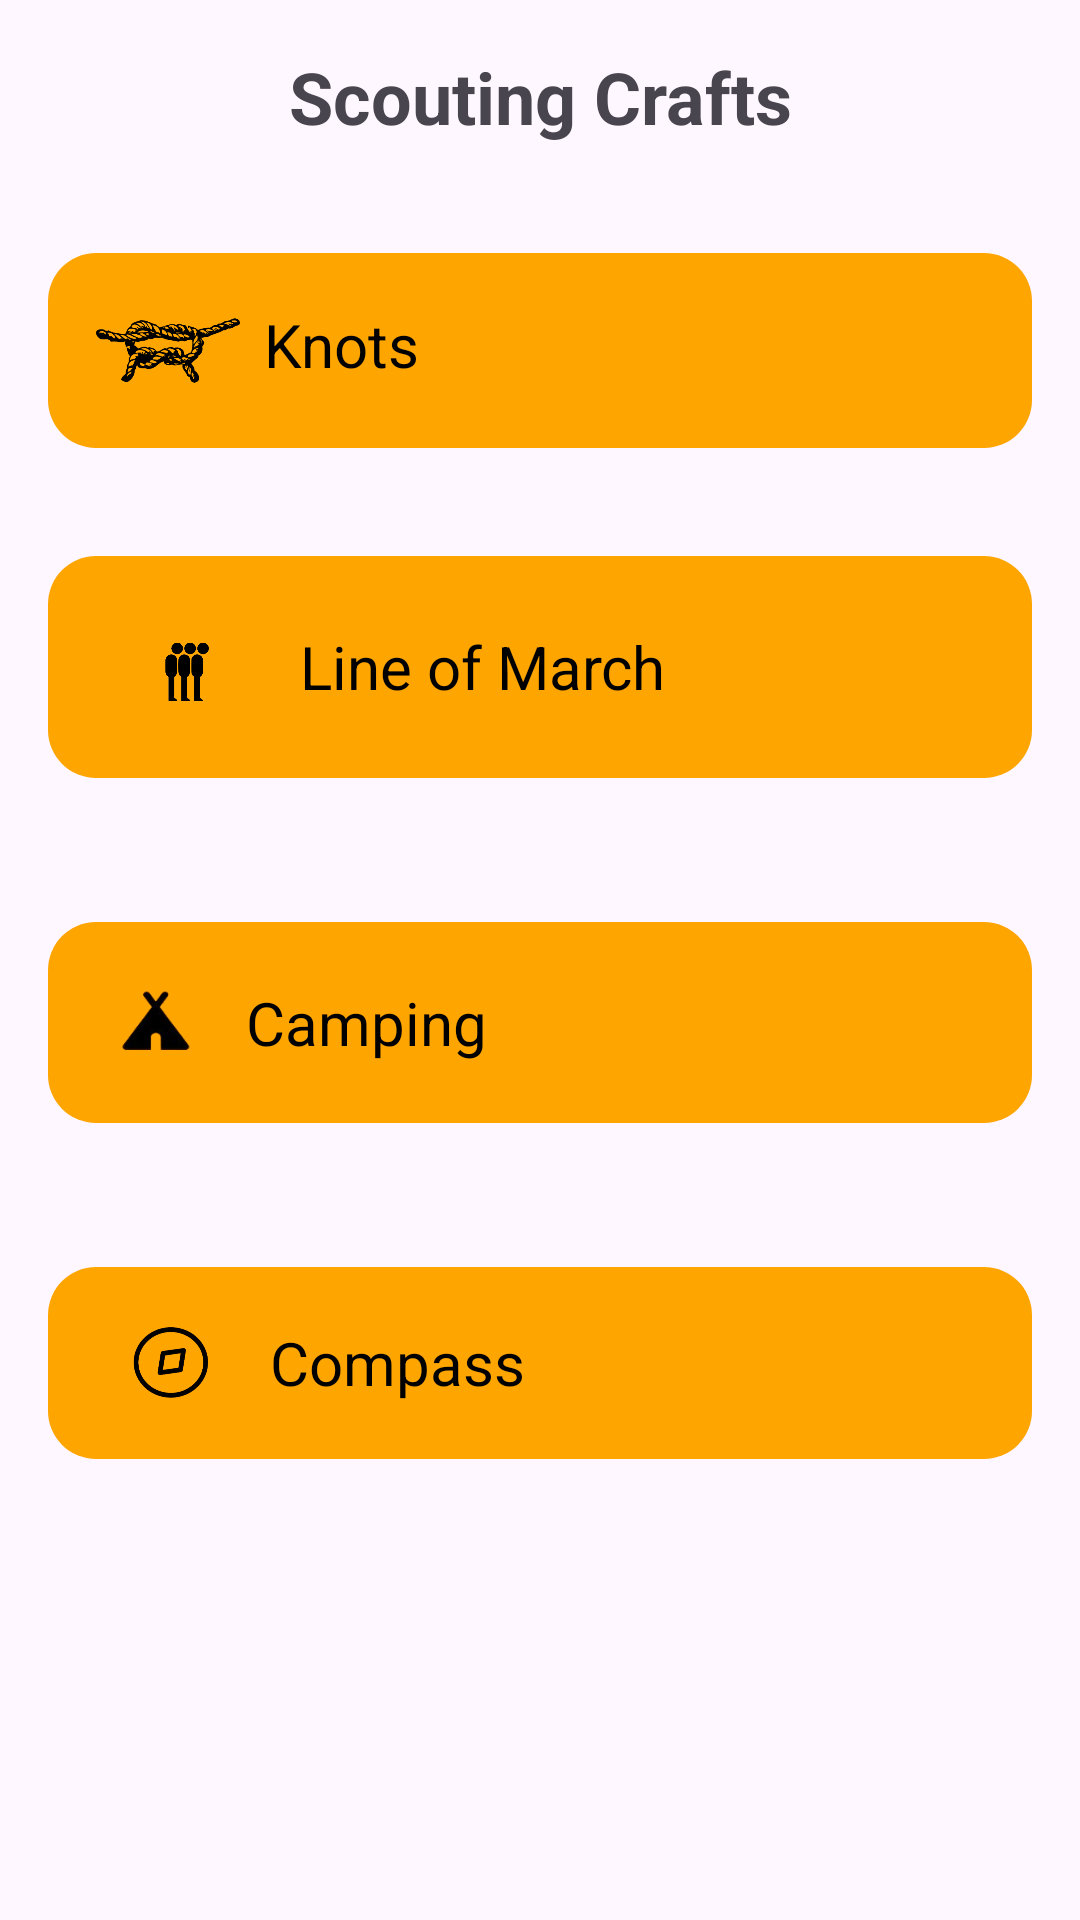

Where to tap for icons on this 1080 × 1920 app screen, as (x=x, y=y):
rigging: (x=168, y=350)
